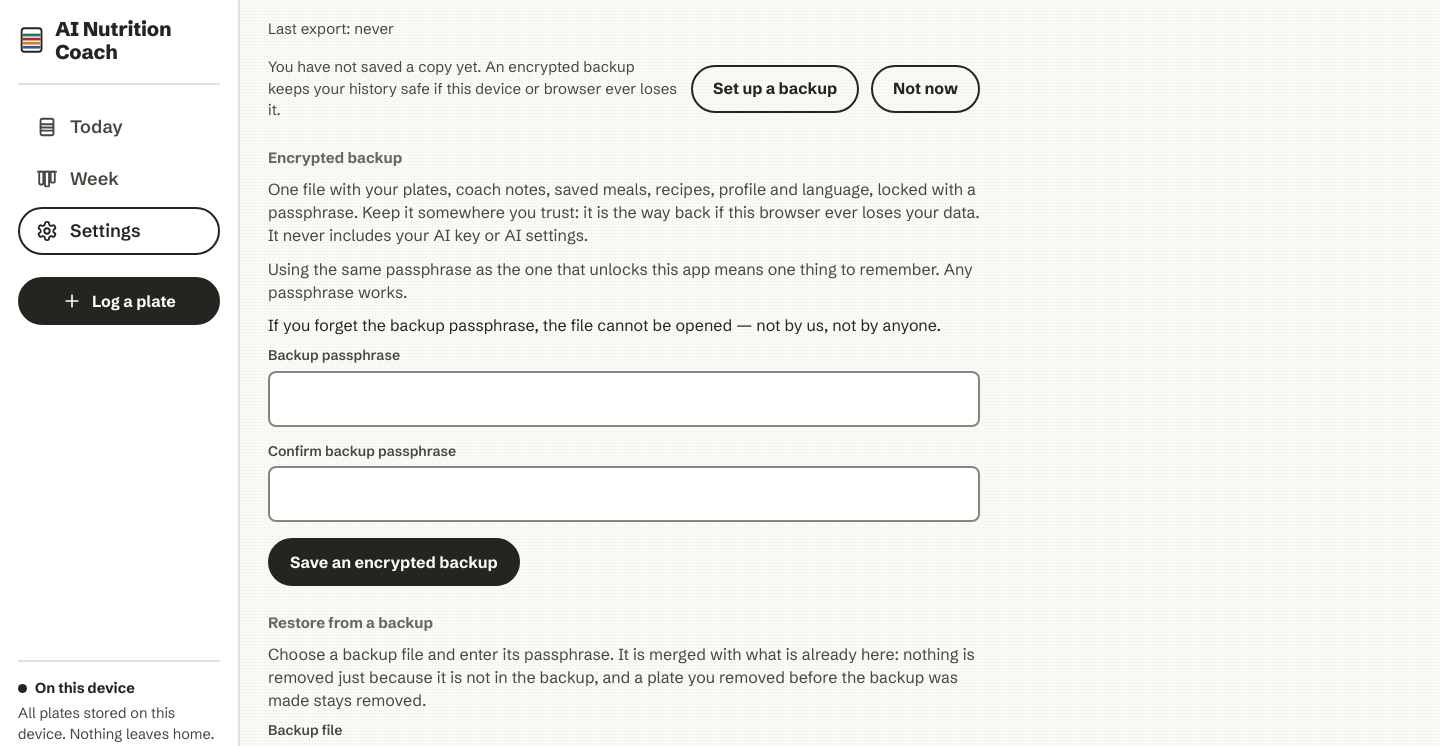
Test case: Your data: save an encrypted backup › a dismissed share sheet says nothing was saved and records no date
(page scrolled)
Clear the password field labelled "Backup passphrase" at x=624, y=399, box [270,373,978,425]
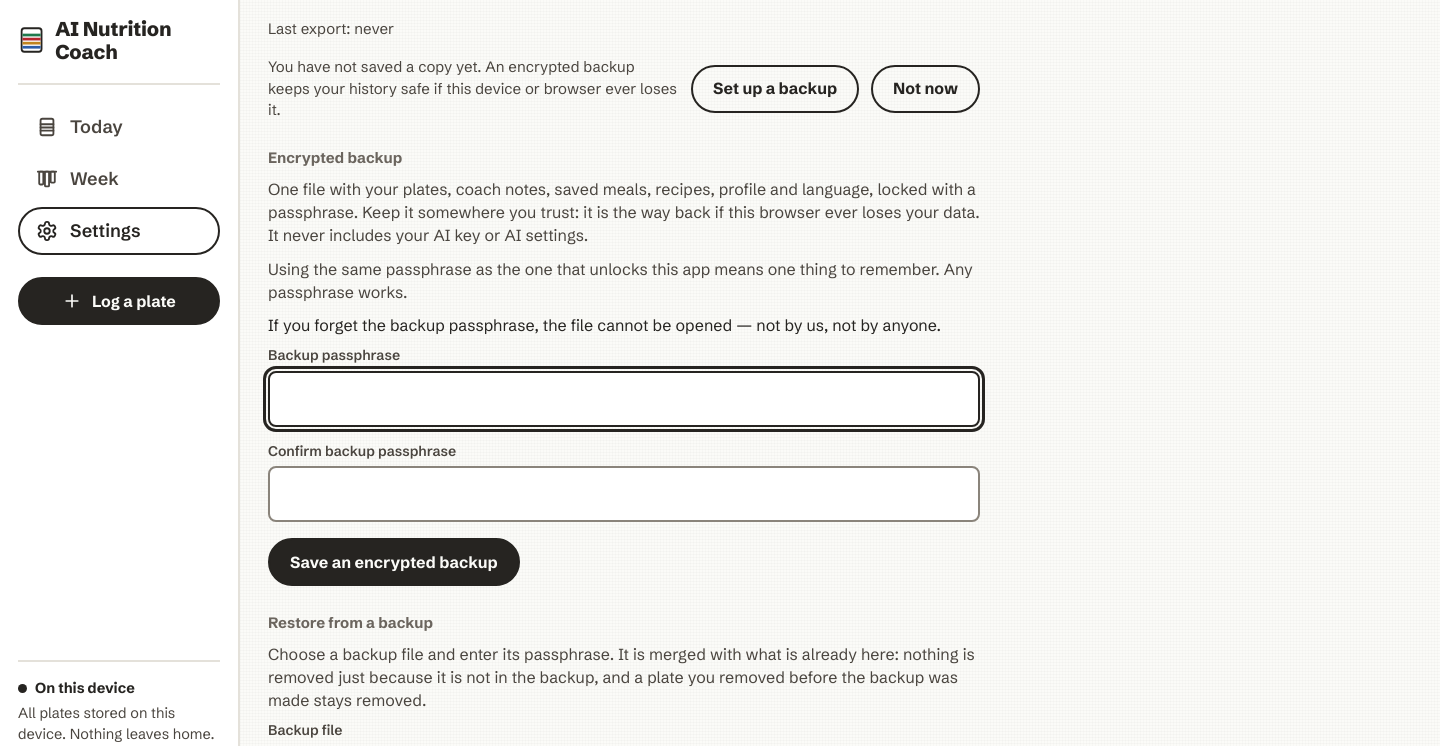
Clear the password field labelled "Confirm backup passphrase" at x=624, y=494, box [270,468,978,520]
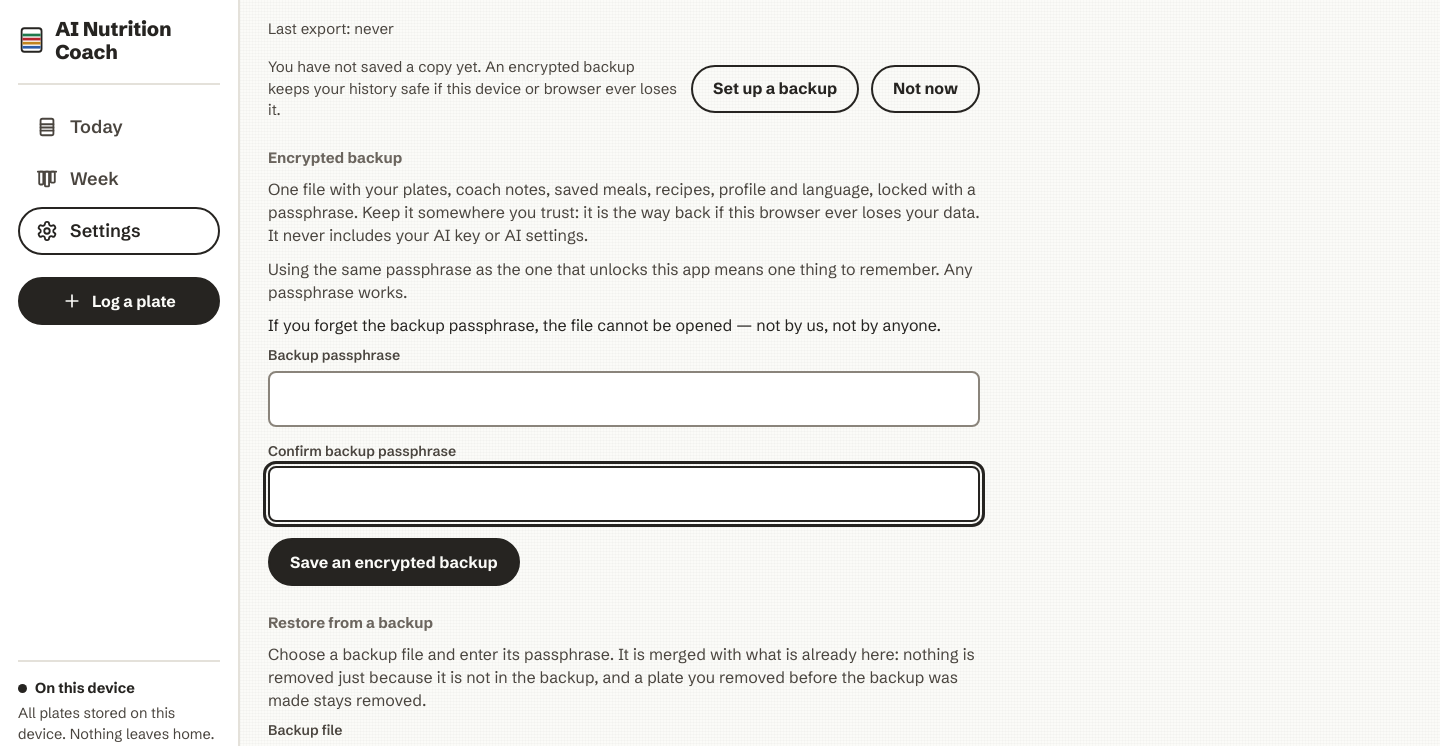
Type "a backup passphrase" into the password field labelled "Backup passphrase" at x=624, y=399, box [270,373,978,425]
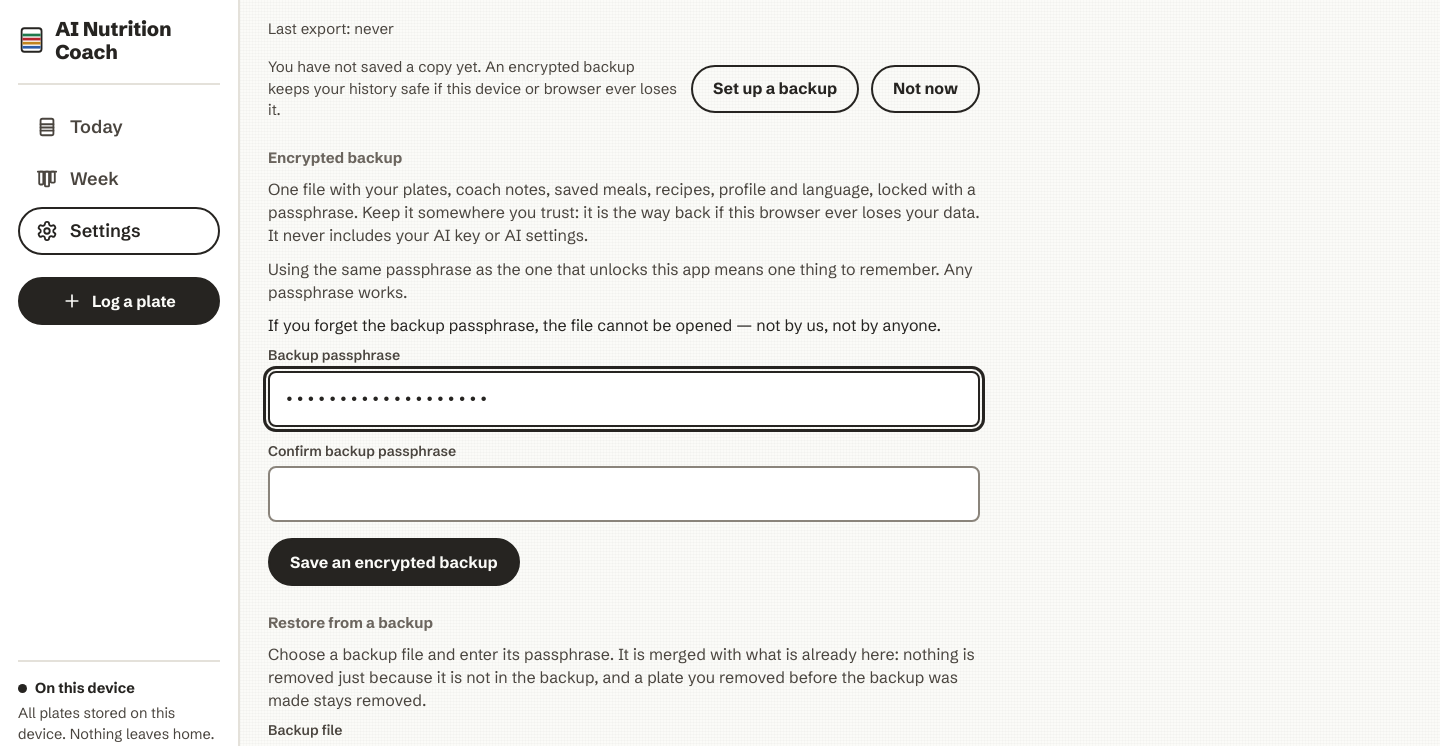
Type "a backup passphrase" into the password field labelled "Confirm backup passphrase" at x=624, y=494, box [270,468,978,520]
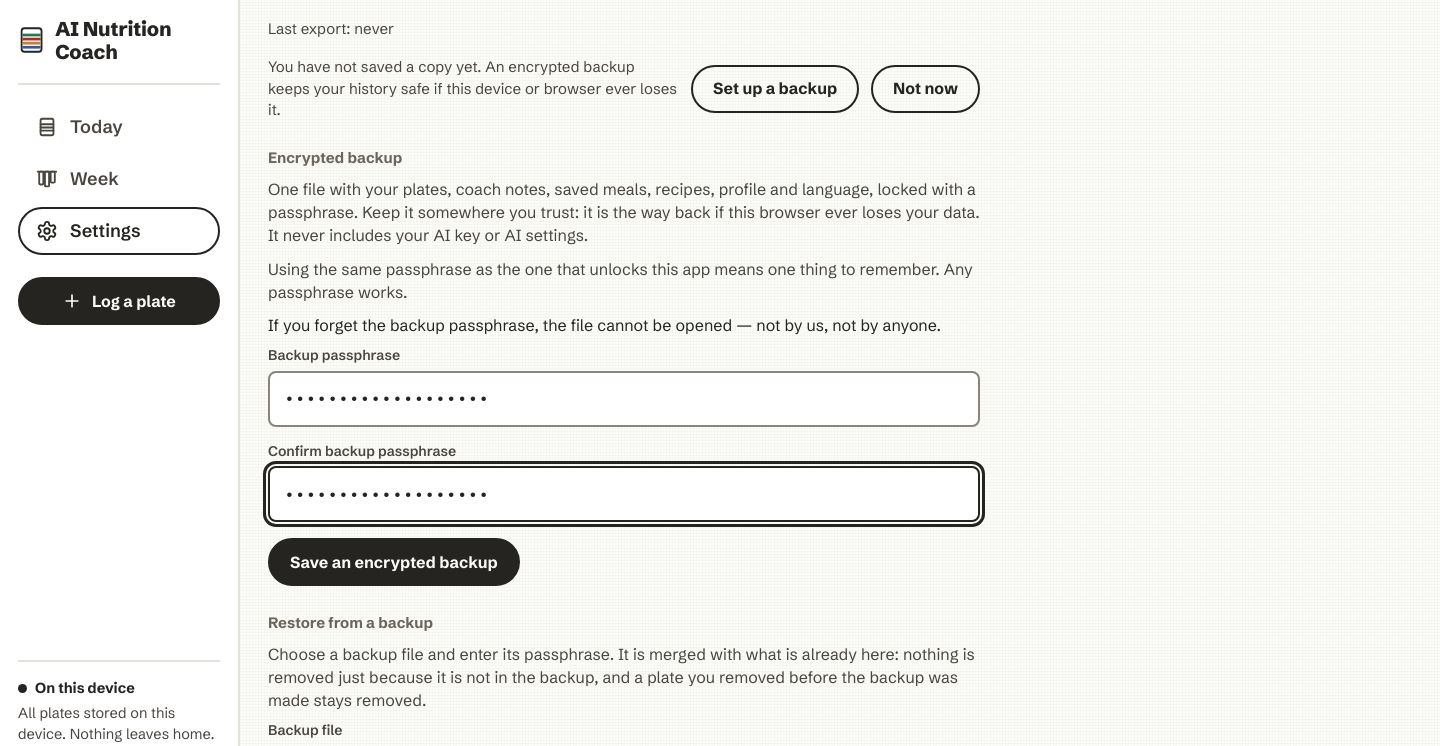
Click the button "Save an encrypted backup" at x=394, y=562, box [268,538,520,586]
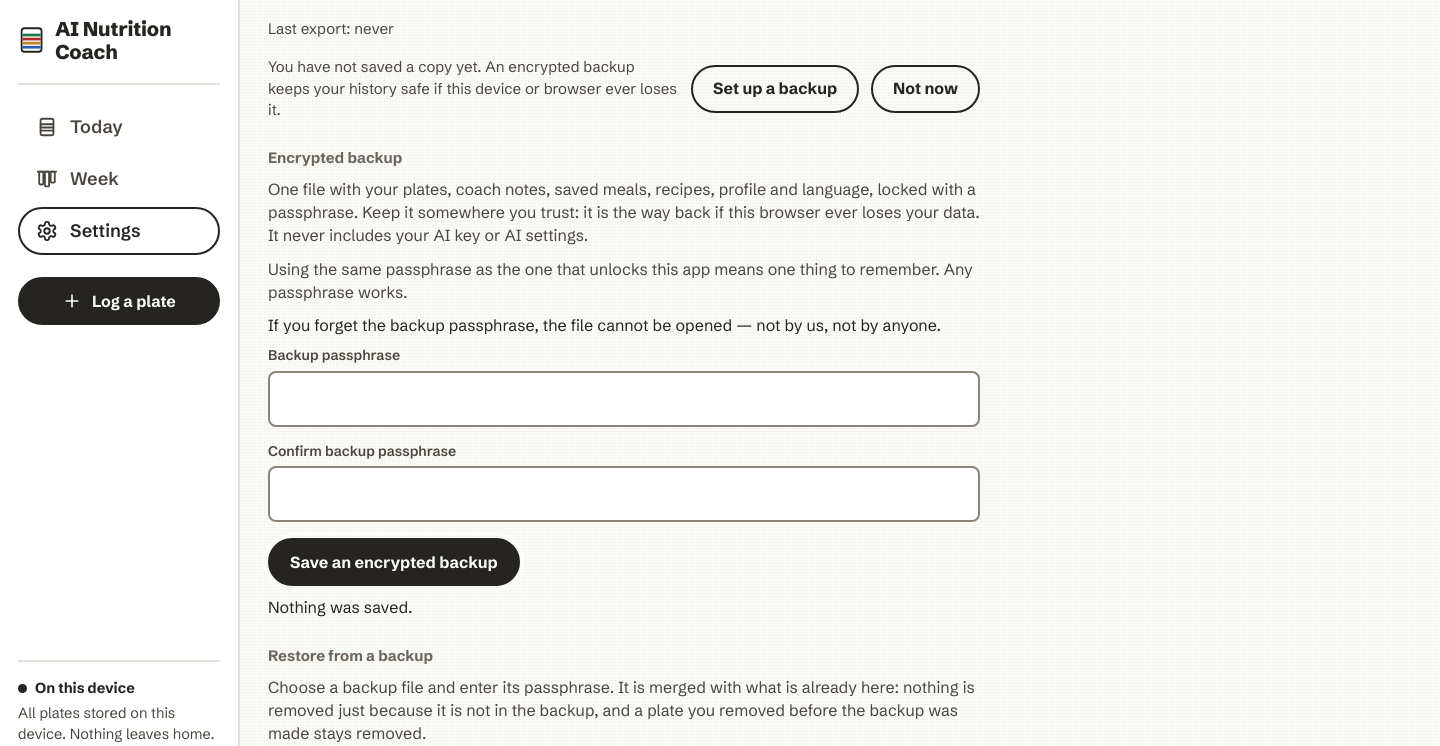
Now the text "Nothing was saved." is shown, box [268,597,413,617]
